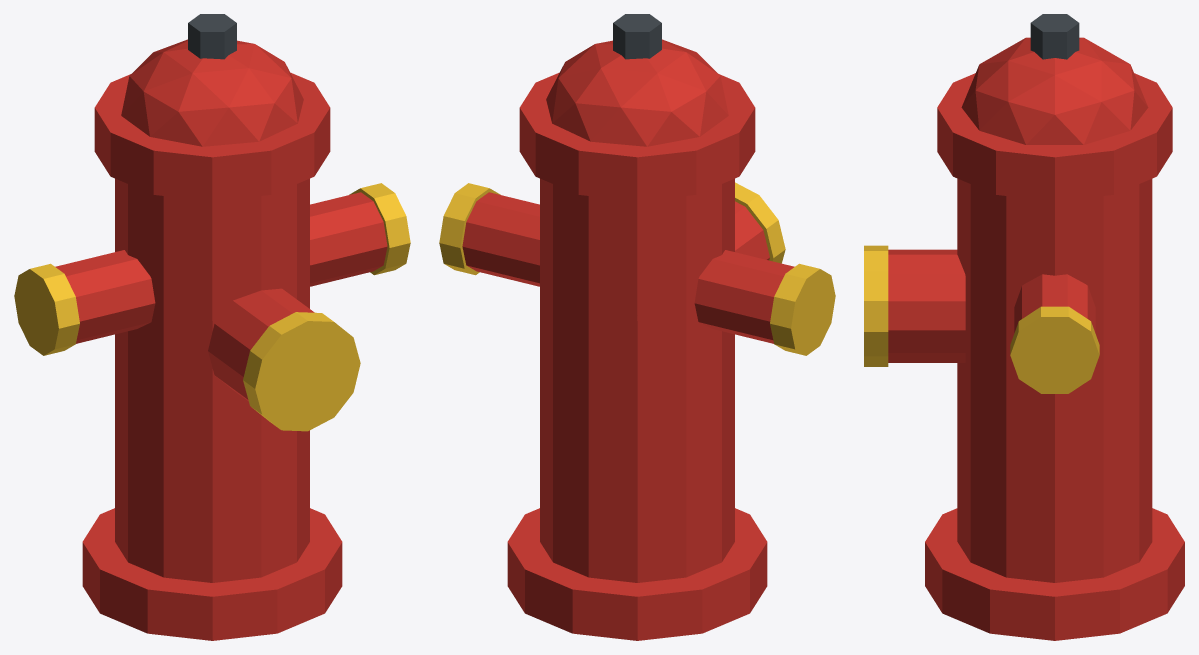
Rendered from Hydrant.fbx.
3 views of the same model, side by side, from view 1: azimuth 30°, elevation 25°; view 2: azimuth 150°, elevation 25°; view 3: azimuth 270°, elevation 25° (orthographic).
Visible parts, largest first — view 1: Hydrant; view 2: Hydrant; view 3: Hydrant.
Boxes of the visible parts, bbox=[...] form: Hydrant: bbox=[14, 14, 410, 640]; Hydrant: bbox=[439, 14, 835, 640]; Hydrant: bbox=[864, 14, 1184, 640].
Bounding box in the file's own units: 0.5 × 0.765 × 0.395.
